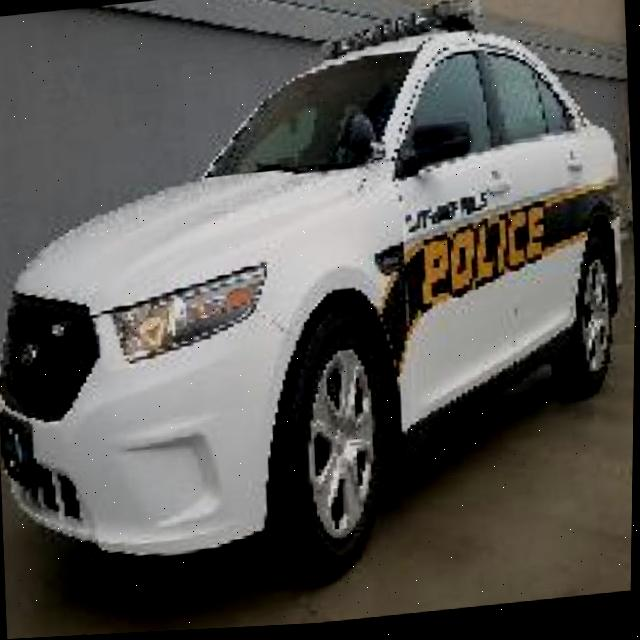emergency: (0, 0, 640, 614)
